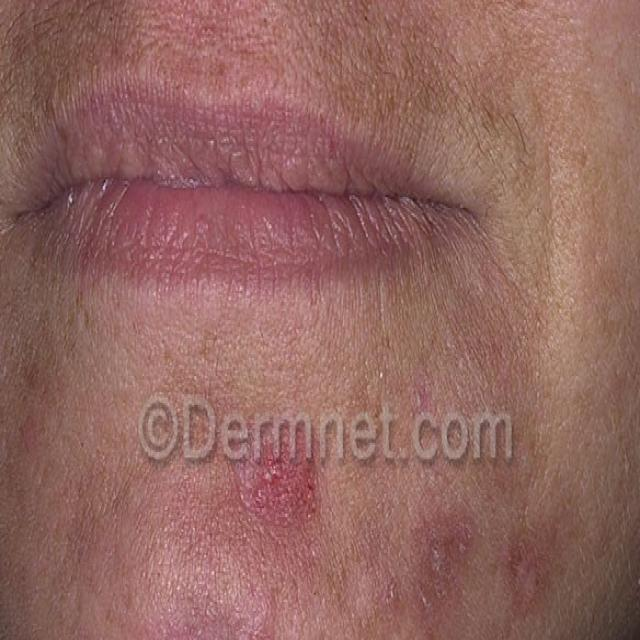Acne: (395, 457, 473, 640), (238, 404, 335, 532), (504, 517, 543, 625)
